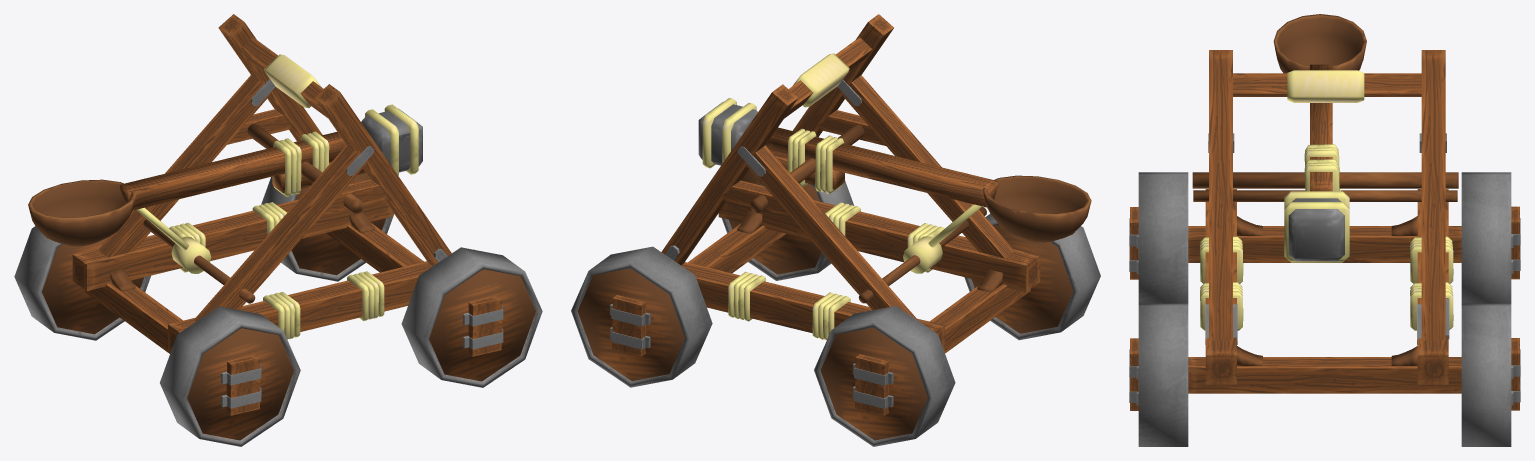
Rendered from CatapultLP.fbx.
3 views of the same model, side by side, from view 1: azimuth 30°, elevation 25°; view 2: azimuth 150°, elevation 25°; view 3: azimuth 270°, elevation 25° (orthographic). The views are drawn at different scales.
Visible parts, largest first — view 1: catapultbase.001, impactholder.004, wheel.013, wheel.008, wheel.012, wheel.011, strengthcilinder.006, strengthcilinder.007; view 2: catapultbase.001, impactholder.004, wheel.011, wheel.012, wheel.013, wheel.008, strengthcilinder.006, strengthcilinder.007; view 3: catapultbase.001, impactholder.004, wheel.008, wheel.011, wheel.012, wheel.013, strengthcilinder.007, strengthcilinder.006.
Boxes of the visible parts, bbox=[...] form: catapultbase.001: bbox=[72, 14, 474, 353]; impactholder.004: bbox=[28, 104, 422, 250]; wheel.013: bbox=[160, 306, 300, 446]; wheel.008: bbox=[401, 247, 542, 387]; wheel.012: bbox=[14, 226, 150, 340]; wheel.011: bbox=[261, 173, 393, 281]; strengthcilinder.006: bbox=[143, 219, 255, 303]; strengthcilinder.007: bbox=[247, 123, 363, 213]; catapultbase.001: bbox=[661, 14, 1040, 353]; impactholder.004: bbox=[698, 98, 1091, 247]; wheel.011: bbox=[571, 246, 712, 387]; wheel.012: bbox=[814, 306, 955, 446]; wheel.013: bbox=[964, 214, 1100, 340]; wheel.008: bbox=[721, 169, 854, 280]; strengthcilinder.006: bbox=[858, 206, 986, 303]; strengthcilinder.007: bbox=[750, 124, 864, 213]; catapultbase.001: bbox=[1188, 50, 1461, 393]; impactholder.004: bbox=[1273, 14, 1366, 262]; wheel.008: bbox=[1129, 303, 1188, 446]; wheel.011: bbox=[1461, 303, 1520, 446]; wheel.012: bbox=[1461, 172, 1520, 303]; wheel.013: bbox=[1129, 172, 1188, 303]; strengthcilinder.007: bbox=[1192, 172, 1458, 188]; strengthcilinder.006: bbox=[1193, 188, 1457, 201].
Size of the model in its own units: 544 by 364 by 387.
